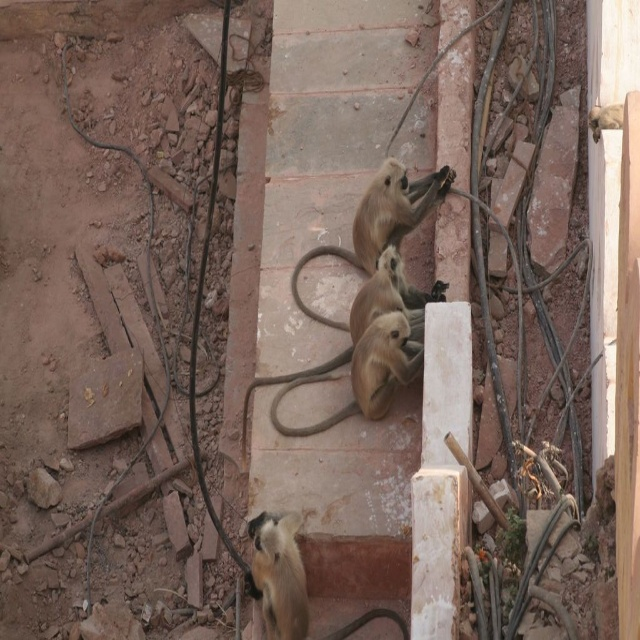Monkey: (238, 246, 450, 448), (292, 158, 458, 334), (247, 513, 408, 639), (270, 312, 431, 421)
